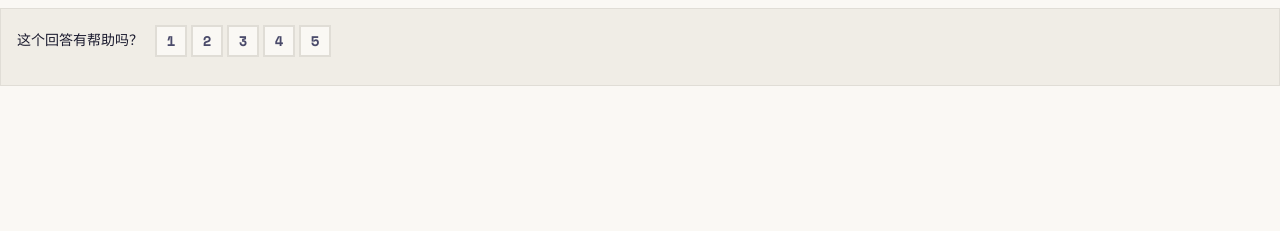
Test: FeedbackRating › selects a rating when star is clicked
Click the button "3" at coordinates (243, 41), box [227,25,259,57]
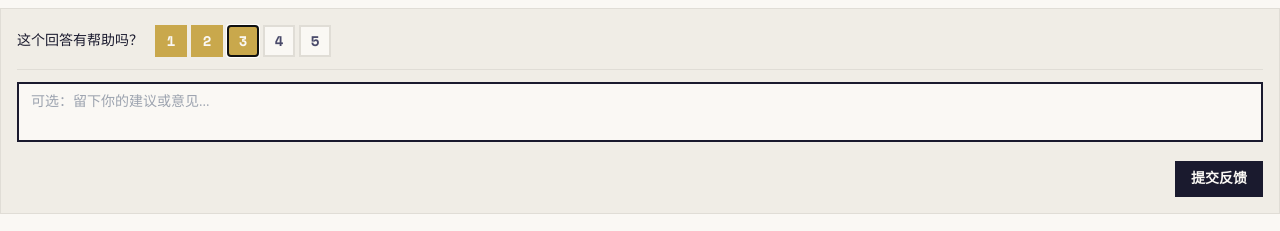
Expected: the text box with placeholder "可选：留下你的建议或意见..." is shown, [17,82,1263,142]
